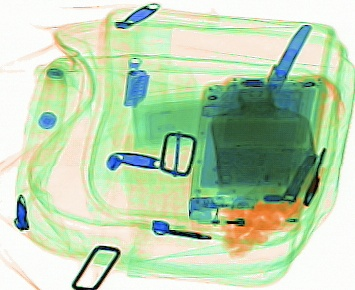lighter: (187, 194, 305, 230)
